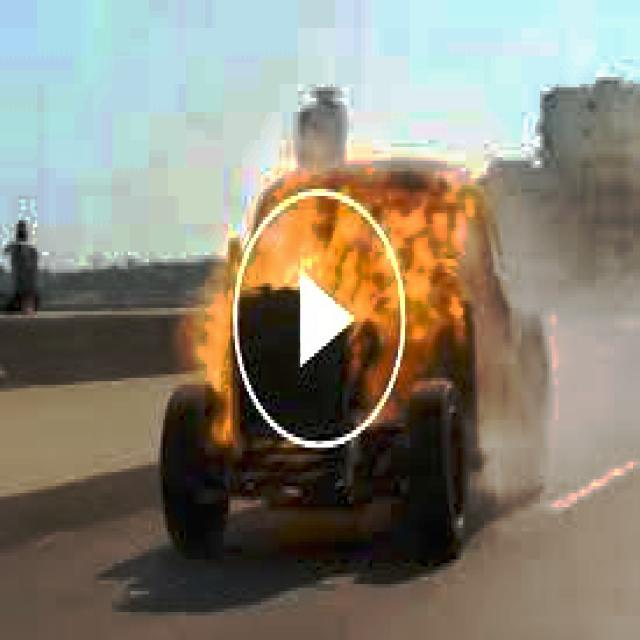api: (199, 172, 513, 463)
